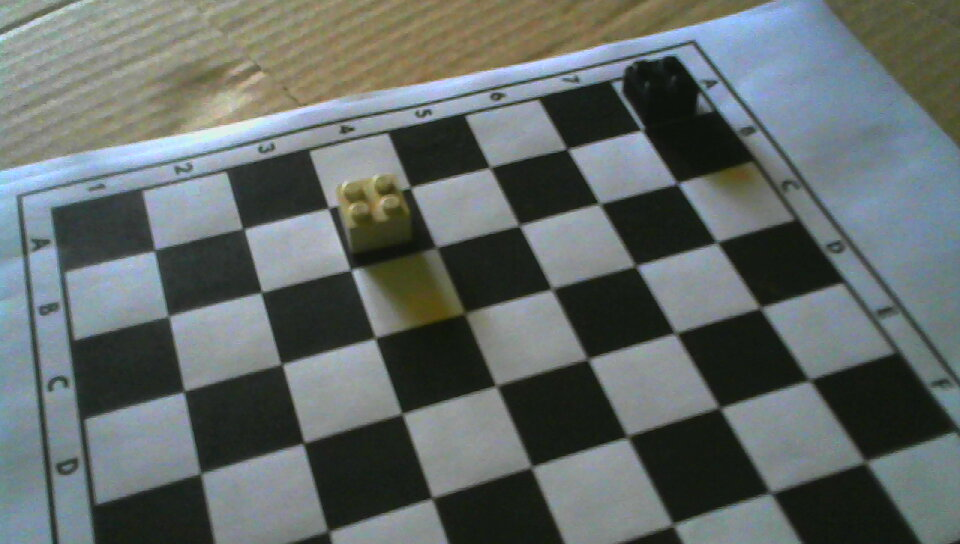bp: (622, 56, 701, 125)
wp: (336, 171, 410, 250)
